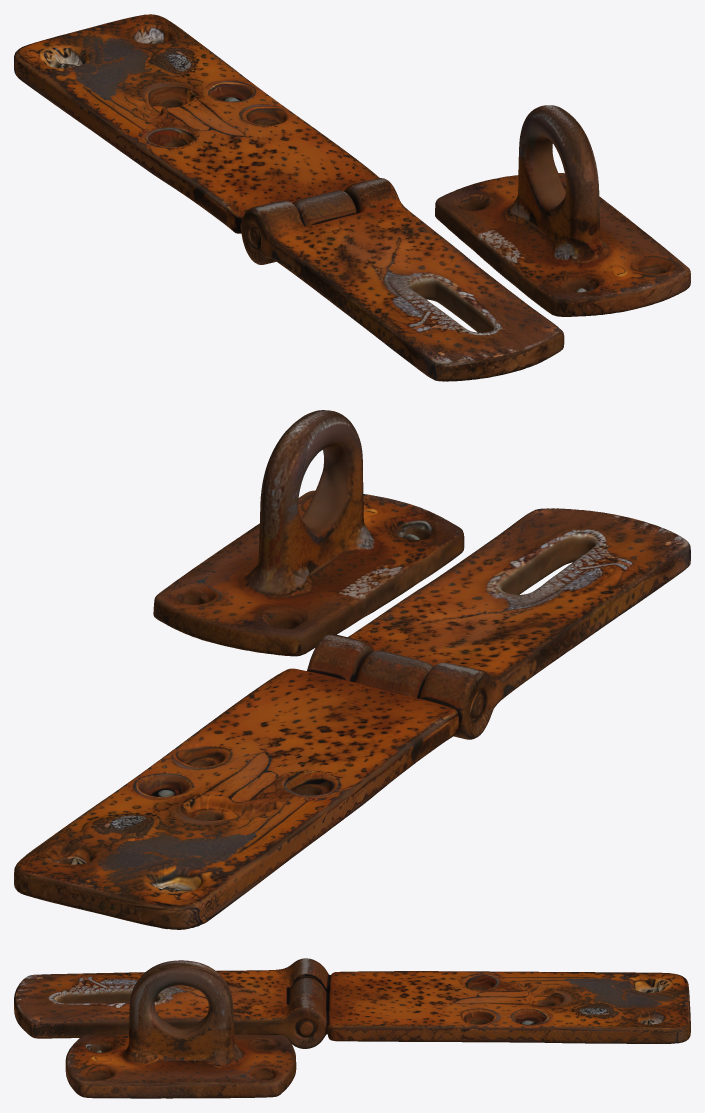
The model's file is lock_staple.fbx.
The picture shows the model from 3 angles, top to bottom: view 1: azimuth 30°, elevation 25°; view 2: azimuth 150°, elevation 25°; view 3: azimuth 270°, elevation 25°; orthographic projection. The views are drawn at different scales.
Visible parts, largest first — view 1: tripo_node_1f0cbf06; view 2: tripo_node_1f0cbf06; view 3: tripo_node_1f0cbf06.
Boxes of the visible parts, x1,y1,x2,y2 form: tripo_node_1f0cbf06: (14,14,690,381); tripo_node_1f0cbf06: (14,410,690,929); tripo_node_1f0cbf06: (14,958,690,1098).
Size of the model in its own units: 0.3926 by 0.1988 by 1.
